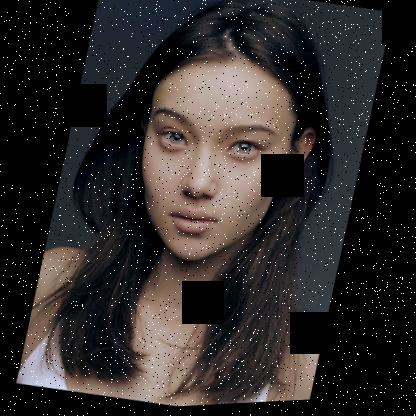Female: (119, 42, 330, 281)
